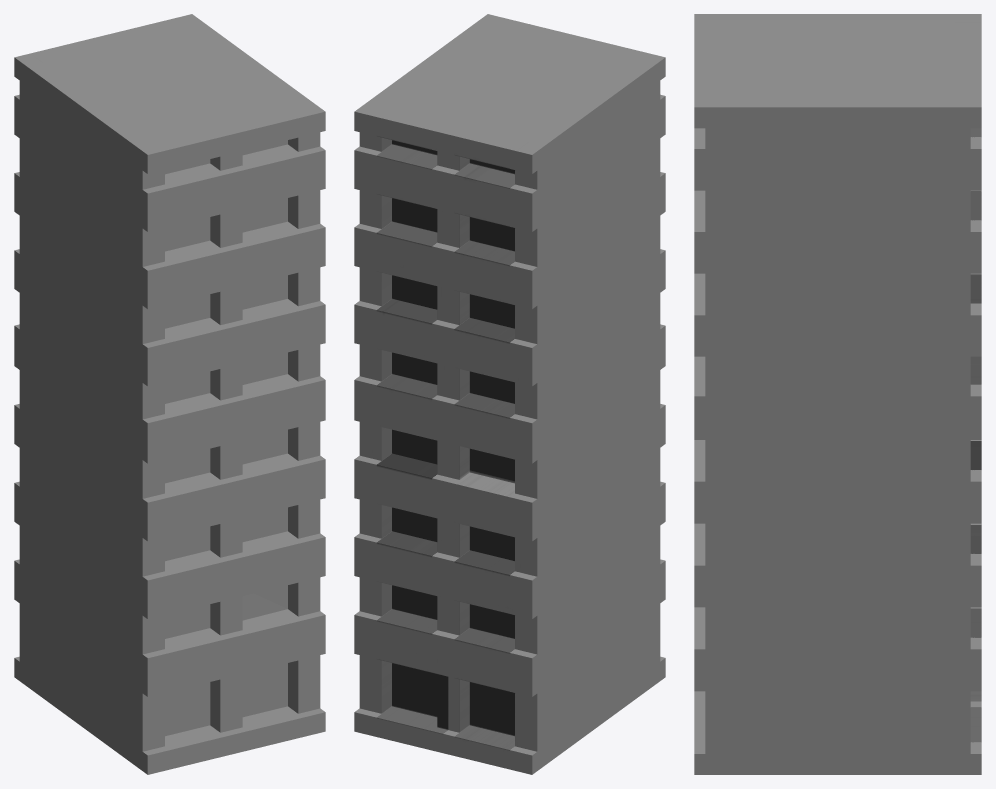
Rendered from biru.obj.
The picture shows the model from 3 angles, left to right: view 1: azimuth 30°, elevation 25°; view 2: azimuth 150°, elevation 25°; view 3: azimuth 270°, elevation 25°; orthographic projection. The views are drawn at different scales.
Parts seen in each view (by area): view 1: 立方体; view 2: 立方体; view 3: 立方体.
Boxes of the visible parts, x1,y1,x2,y2 form: 立方体: (14, 14, 325, 774); 立方体: (354, 14, 665, 774); 立方体: (694, 14, 981, 774).
Size of the model in its own units: 6 by 20 by 7.8.
